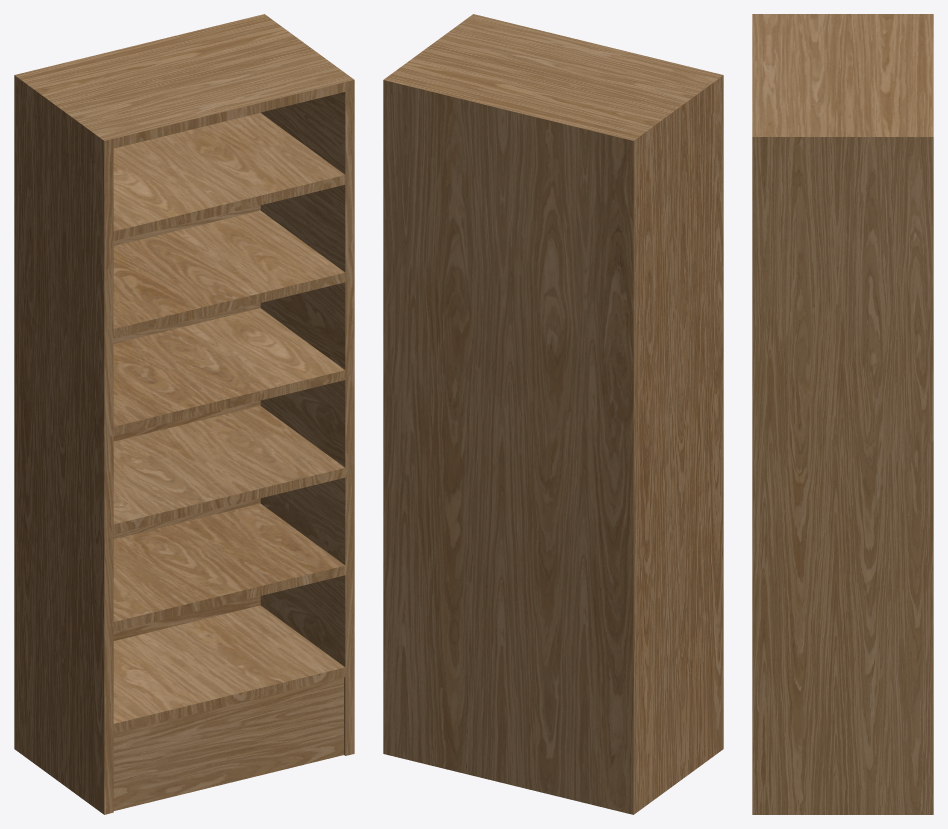
File: Kärpänen_Kaappi.fbx
3 views of the same model, side by side, from view 1: azimuth 30°, elevation 25°; view 2: azimuth 150°, elevation 25°; view 3: azimuth 270°, elevation 25° (orthographic).
Parts seen in each view (by area): view 1: Cube.003; view 2: Cube.003; view 3: Cube.003.
Boxes of the visible parts, box(x1,y1,x2,y2) form: Cube.003: box(14, 14, 354, 814); Cube.003: box(383, 14, 723, 814); Cube.003: box(752, 14, 933, 814).
Size of the model in its own units: 1863 by 4793 by 1161.
Materials: 1 (1 with a texture image).
